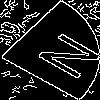N: (25, 25, 100, 82)
